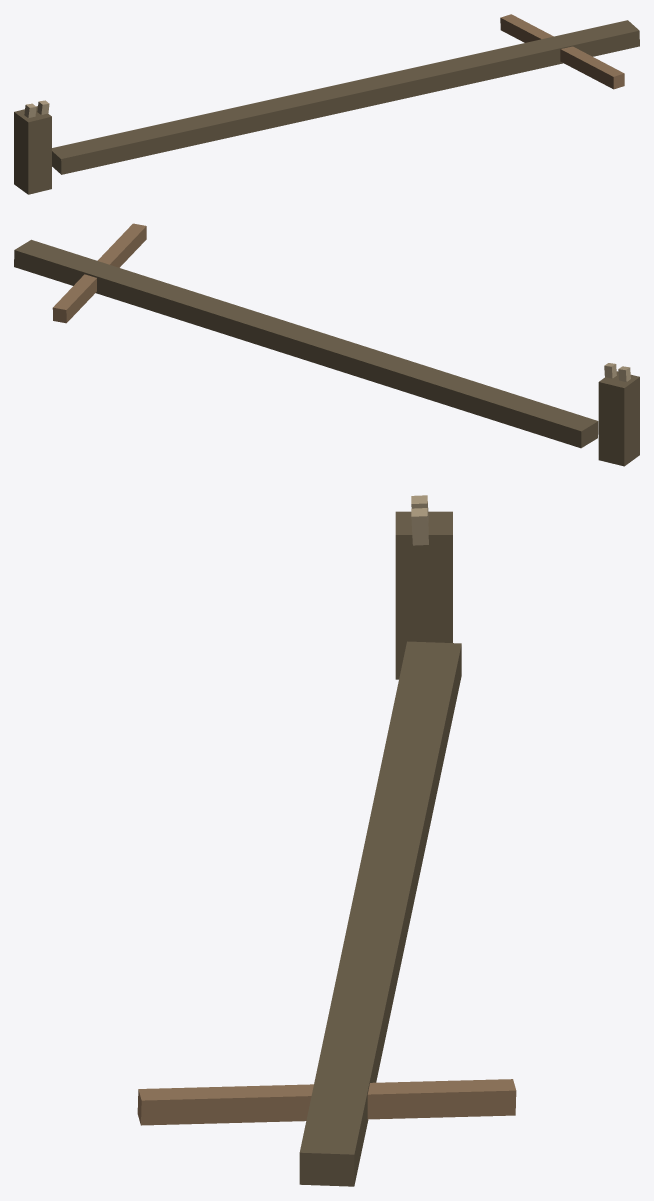
Rendered from ua_village_broken_pole.obj.
3 views of the same model, one above another, from view 1: azimuth 30°, elevation 25°; view 2: azimuth 150°, elevation 25°; view 3: azimuth 270°, elevation 25° (orthographic). The views are drawn at different scales.
Visible parts, largest first — view 1: ua_village_broken_pole; view 2: ua_village_broken_pole; view 3: ua_village_broken_pole.
Part boxes in pixels (bbox=[...]): ua_village_broken_pole: bbox=[14, 14, 639, 194]; ua_village_broken_pole: bbox=[14, 223, 639, 466]; ua_village_broken_pole: bbox=[137, 495, 516, 1186].
Bounding box in the file's own units: 5.45 × 0.7345 × 1.52.
